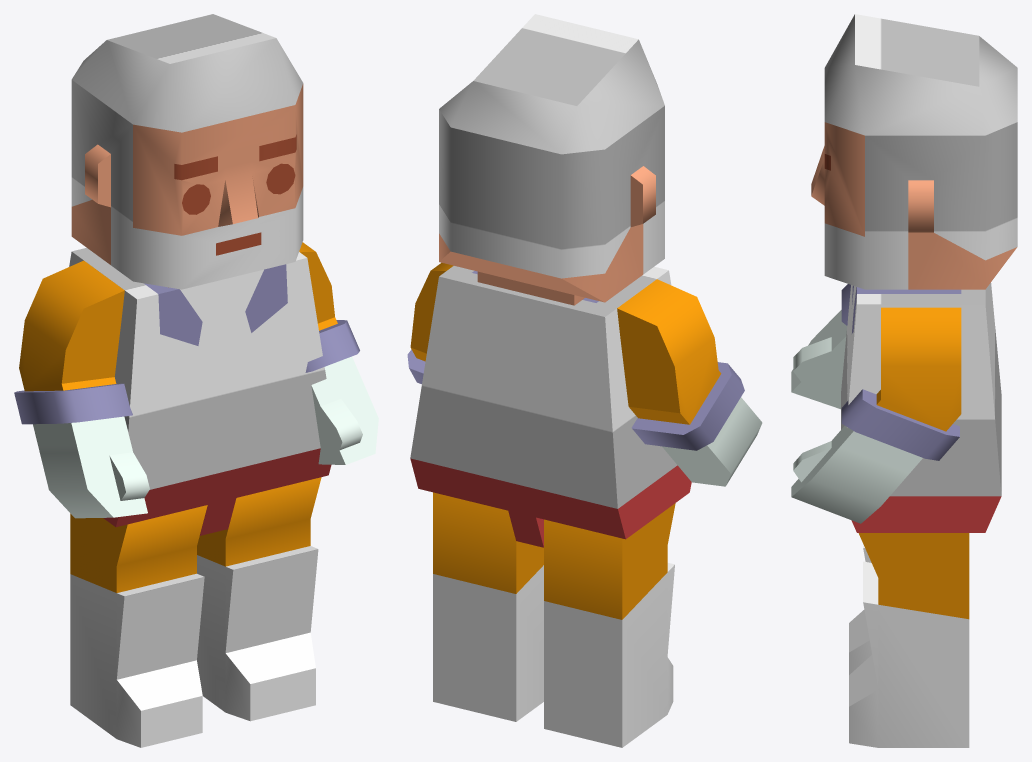
File: Clown.fbx
3 renders of one model, left to right at view 1: azimuth 30°, elevation 25°; view 2: azimuth 150°, elevation 25°; view 3: azimuth 270°, elevation 25°, orthographic. The views are drawn at different scales.
Parts seen in each view (by area): view 1: mergedBlocks; view 2: mergedBlocks; view 3: mergedBlocks.
Boxes of the visible parts, x1,y1,x2,y2 form: mergedBlocks: [14, 14, 378, 747]; mergedBlocks: [407, 14, 762, 747]; mergedBlocks: [791, 14, 1017, 747].
Size of the model in its own units: 4.31 by 9.07 by 2.82.
